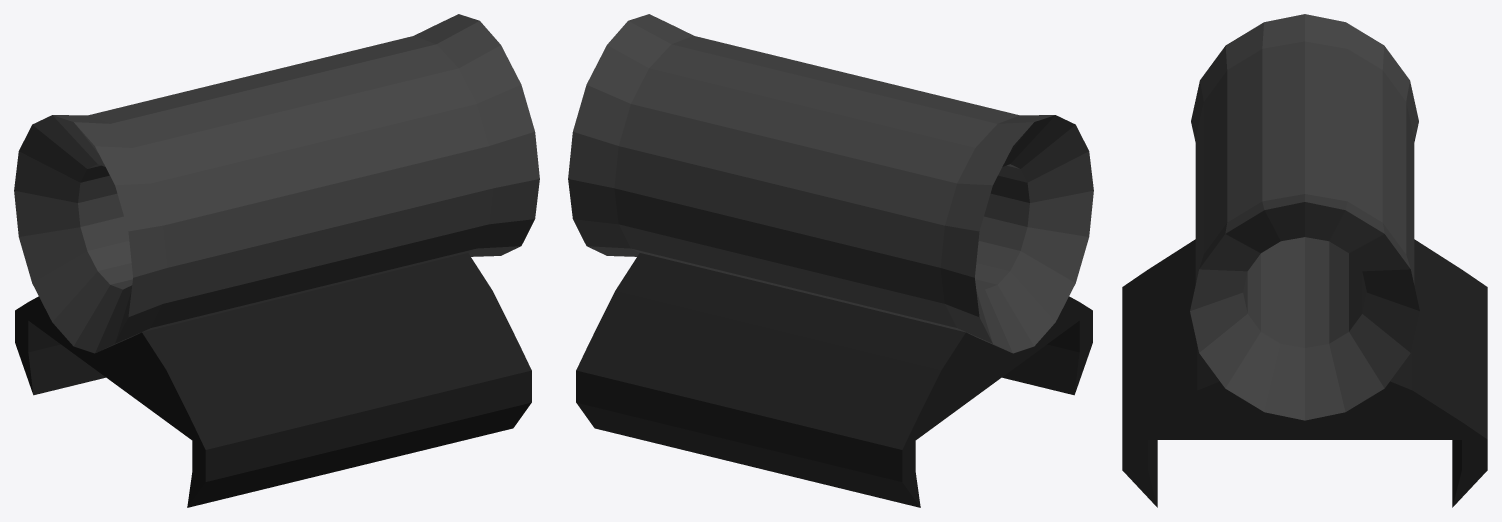
Rendered from ScoopeStock.fbx.
3 views of the same model, side by side, from view 1: azimuth 30°, elevation 25°; view 2: azimuth 150°, elevation 25°; view 3: azimuth 270°, elevation 25° (orthographic). The views are drawn at different scales.
Visible parts, largest first — view 1: Cube.001; view 2: Cube.001; view 3: Cube.001.
Boxes of the visible parts, x1=… form: Cube.001: x1=14, y1=14, x2=539, y2=507; Cube.001: x1=568, y1=14, x2=1093, y2=507; Cube.001: x1=1122, y1=14, x2=1487, y2=507.
Bounding box in the file's own units: 4.61 × 3.69 × 3.74.
